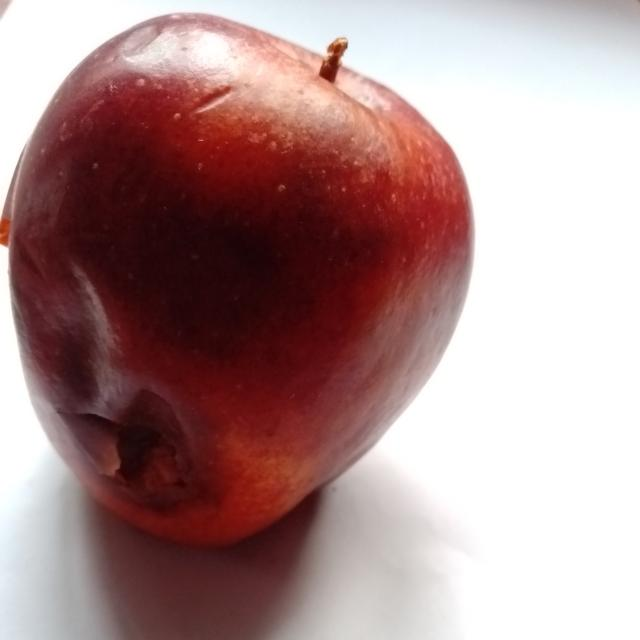apple: (0, 15, 472, 544)
